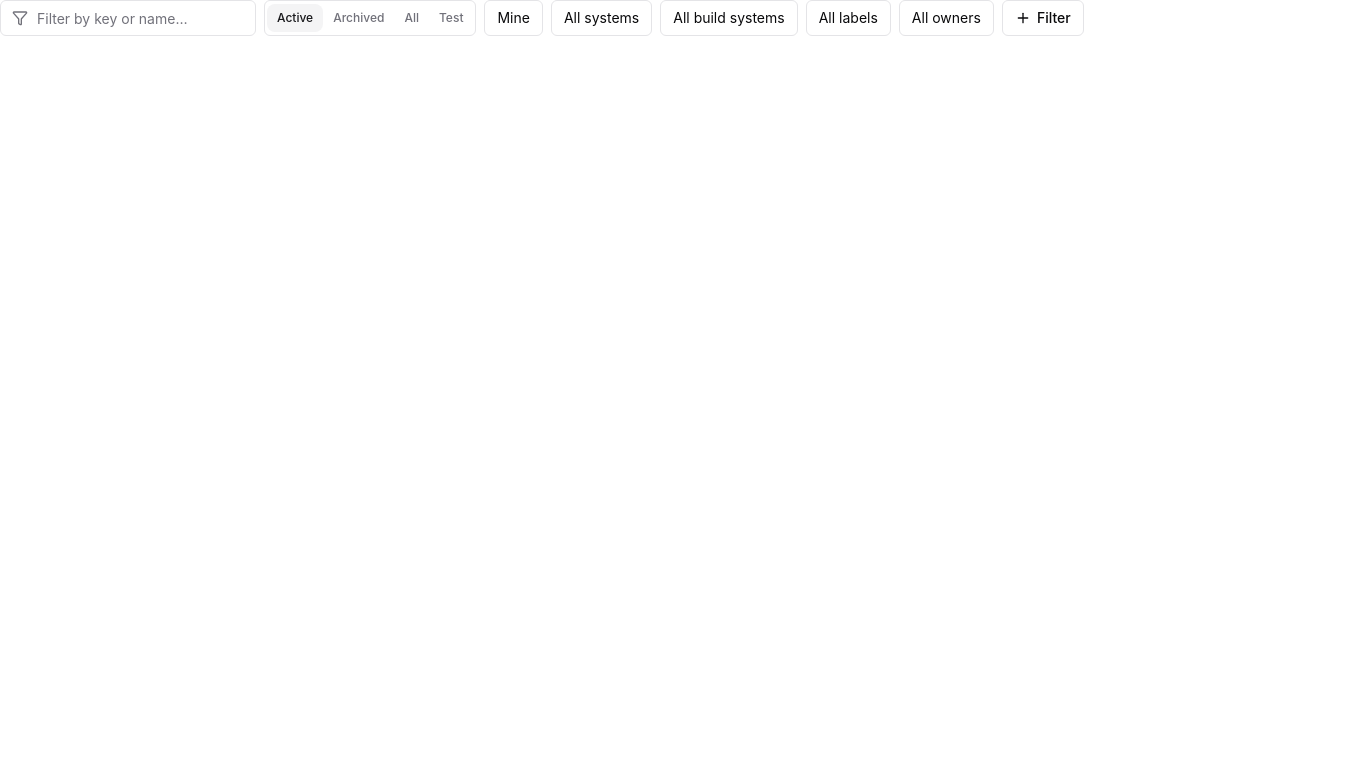
Scenario: ComponentFilters "+ Filter" panel (extended dimensions) › the editor has a way back to the list
Step 1. Click the button with aria-label "Add filter" → point(1043, 18), box [1002,0,1084,36]
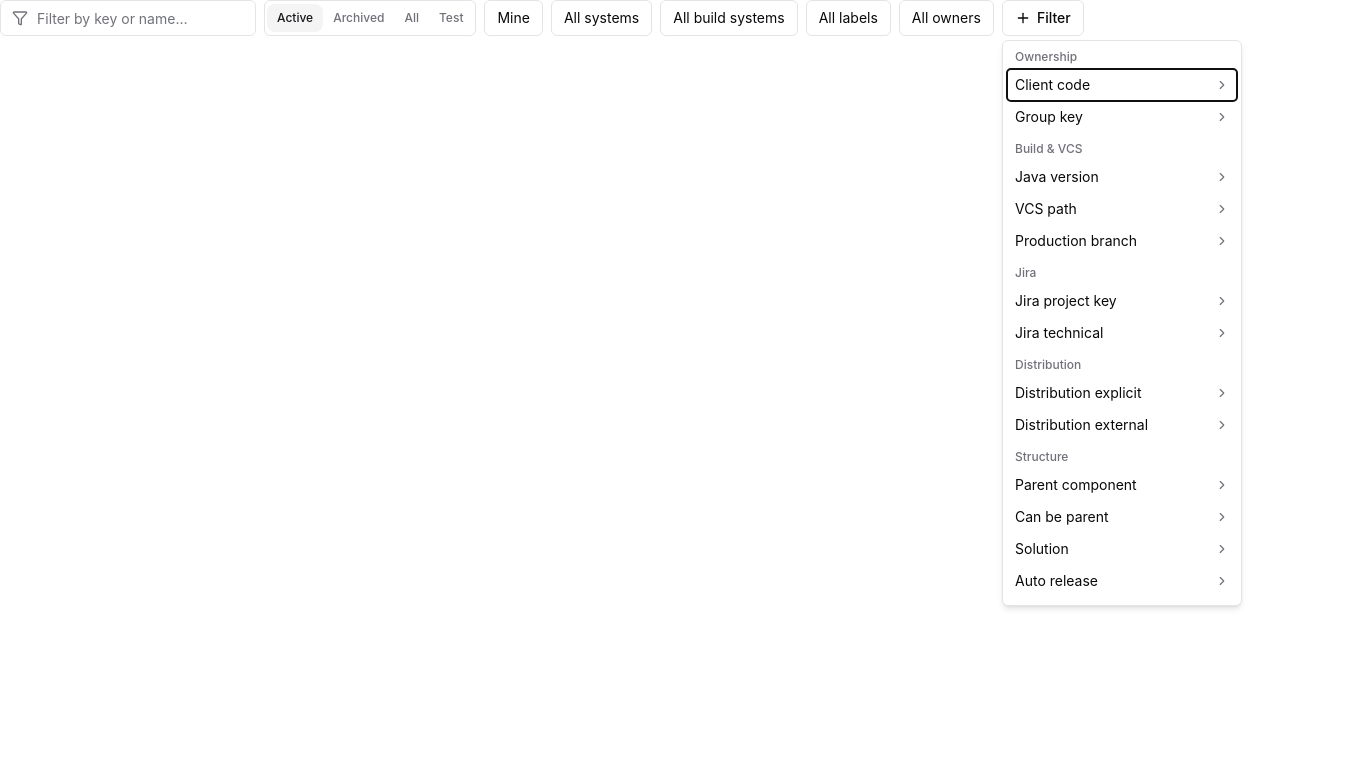
Step 2. Click the button "Solution" → point(1122, 549), box [1007,533,1237,565]
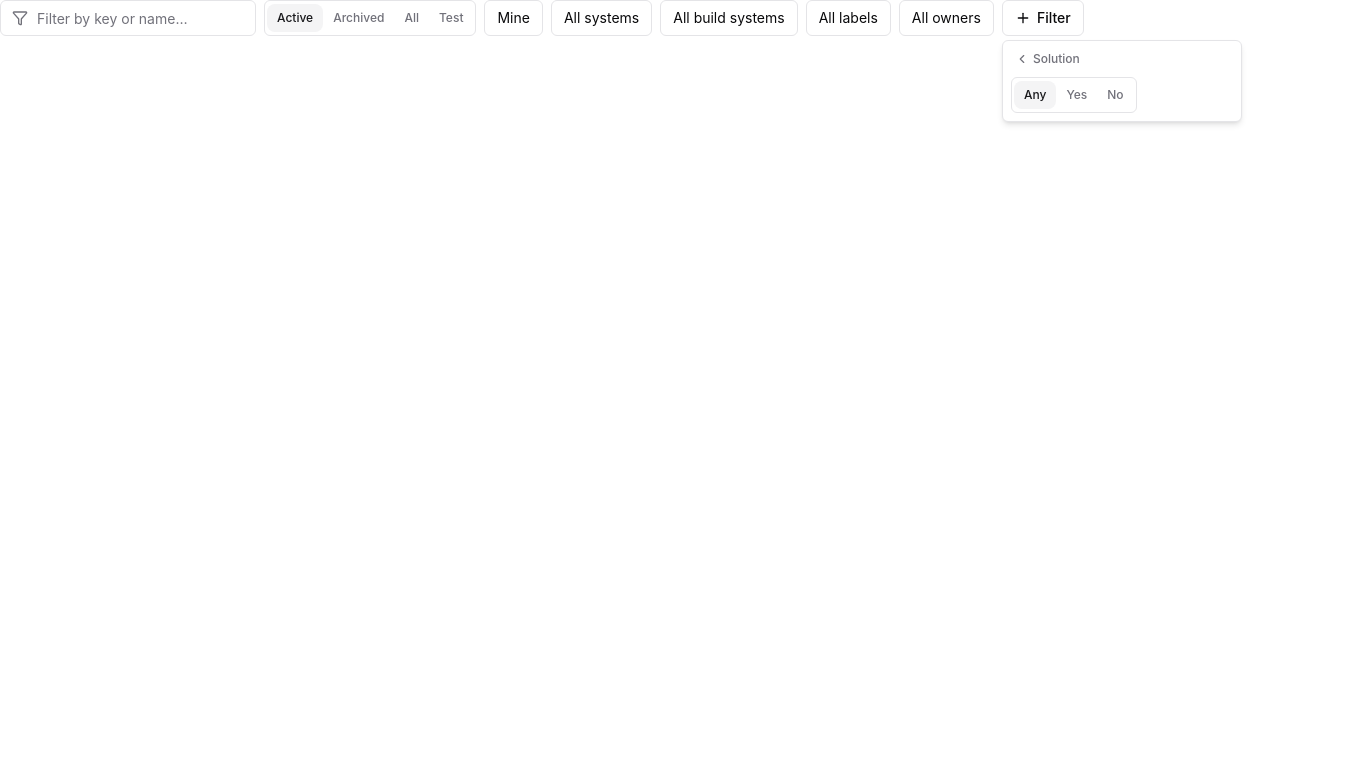
Step 3. Click the button "Solution" → point(1122, 59), box [1007,45,1237,73]
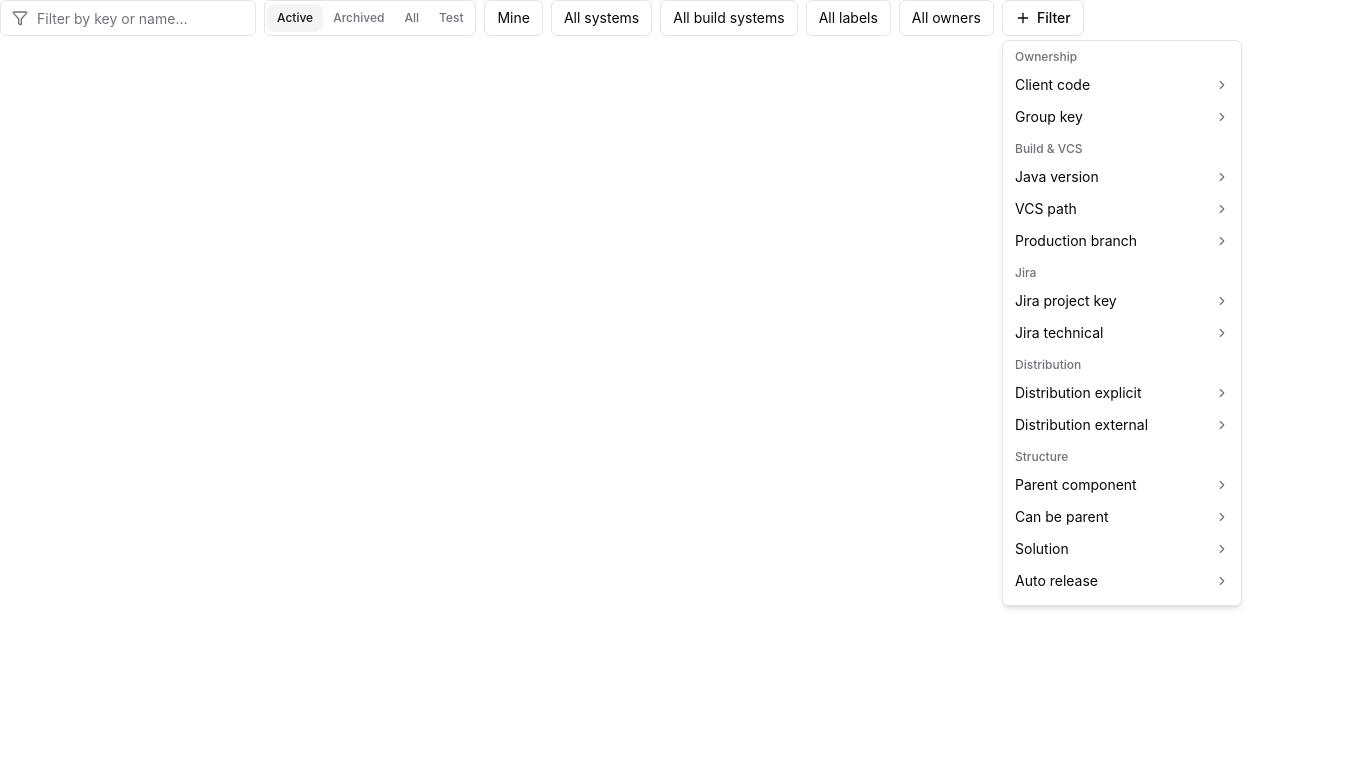
Expected: the element "Jira" is shown, [1007,261,1237,353]
